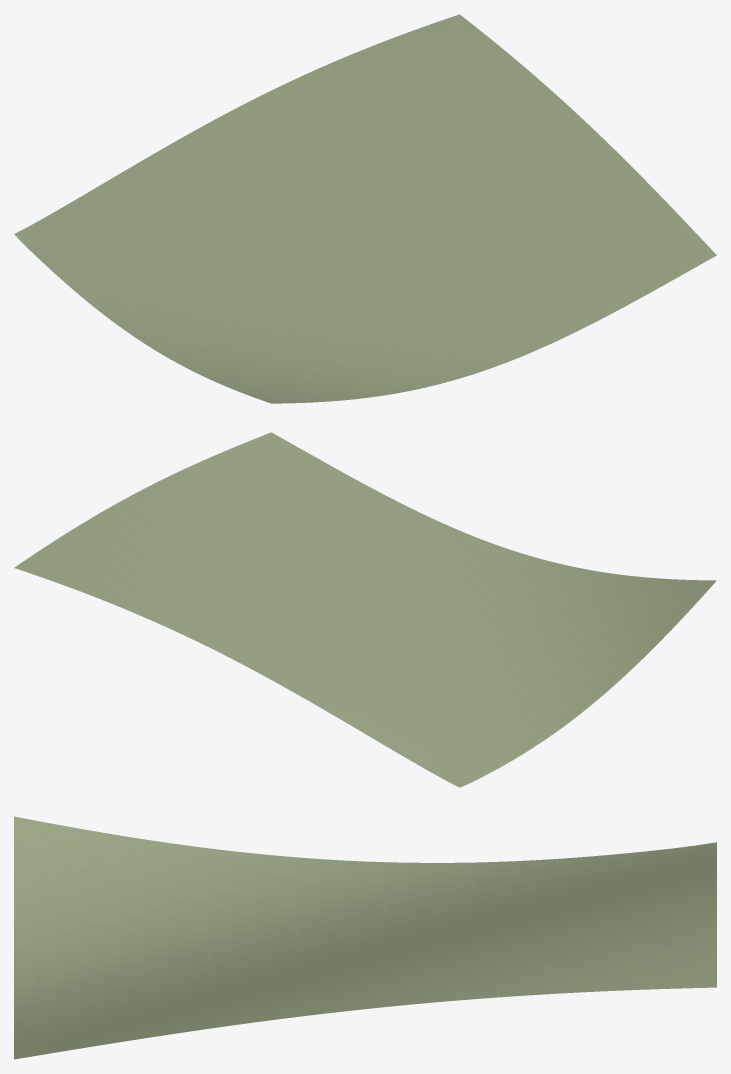
Rendered from expanse-8-8.glb.
3 views of the same model, one above another, from view 1: azimuth 30°, elevation 25°; view 2: azimuth 150°, elevation 25°; view 3: azimuth 270°, elevation 25° (orthographic). The views are drawn at different scales.
Parts seen in each view (by area): view 1: expanse-8-8; view 2: expanse-8-8; view 3: expanse-8-8.
Part boxes in pixels (left/top/right/bottom): expanse-8-8: left=14, top=14, right=716, bottom=403; expanse-8-8: left=14, top=432, right=716, bottom=787; expanse-8-8: left=14, top=816, right=716, bottom=1059.
Bounding box in the file's own units: 256 × 69.28 × 256.
